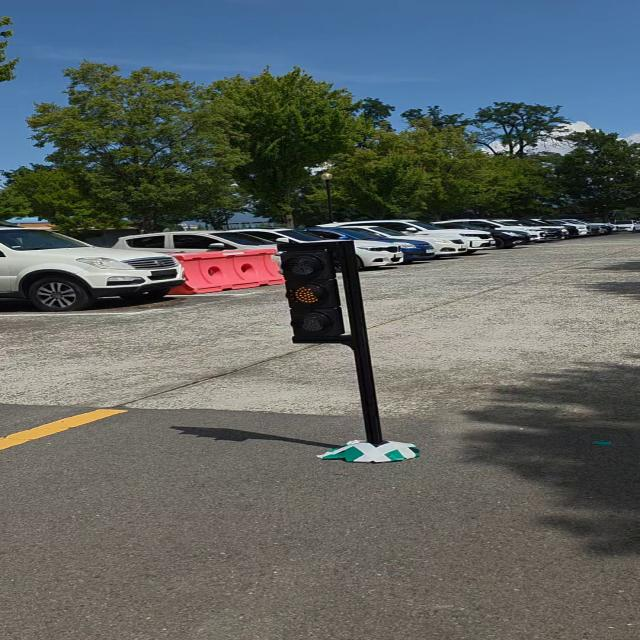yellow: (277, 242, 348, 346)
